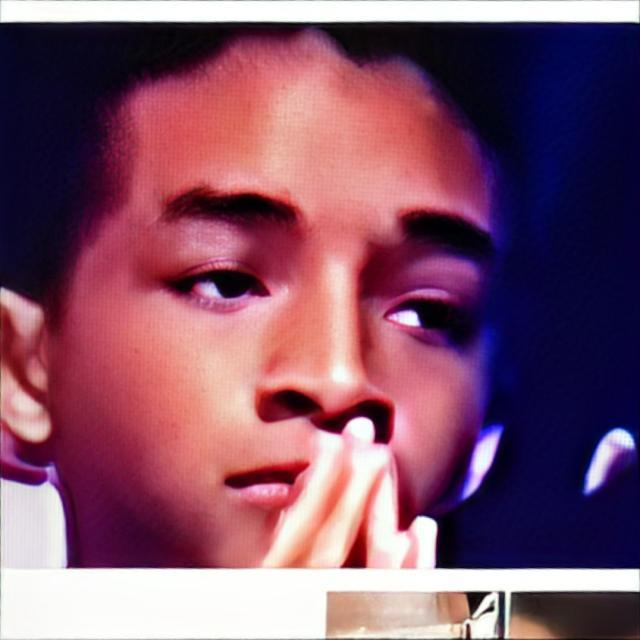sad: (56, 28, 502, 570)
